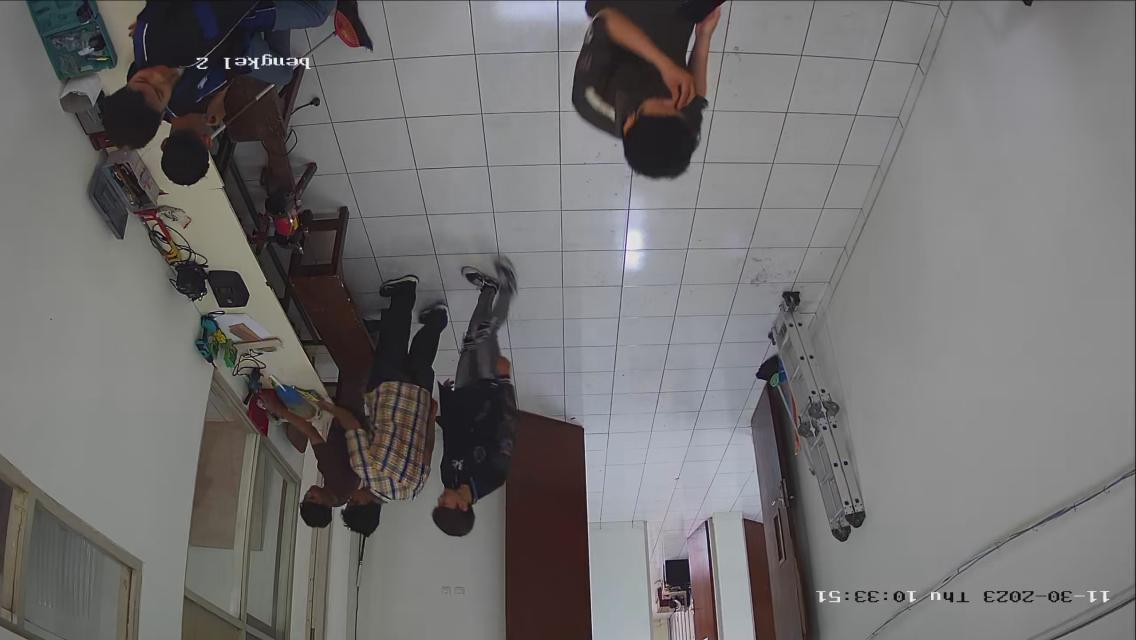Person-Crowd: (560, 0, 732, 182), (338, 269, 418, 539), (430, 254, 500, 549)
